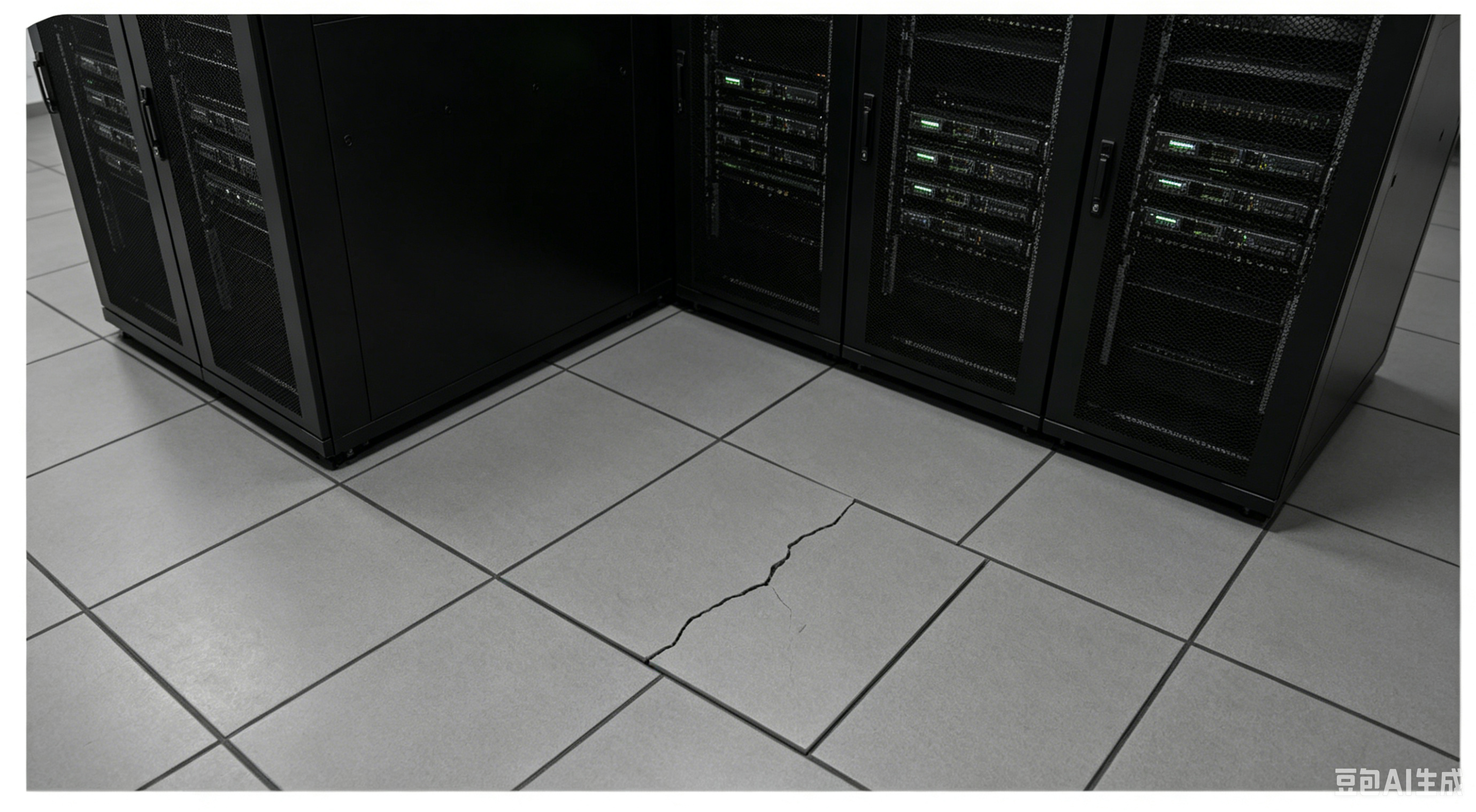floor_defect: (622, 597, 740, 662), (717, 546, 805, 600), (798, 487, 864, 543)
